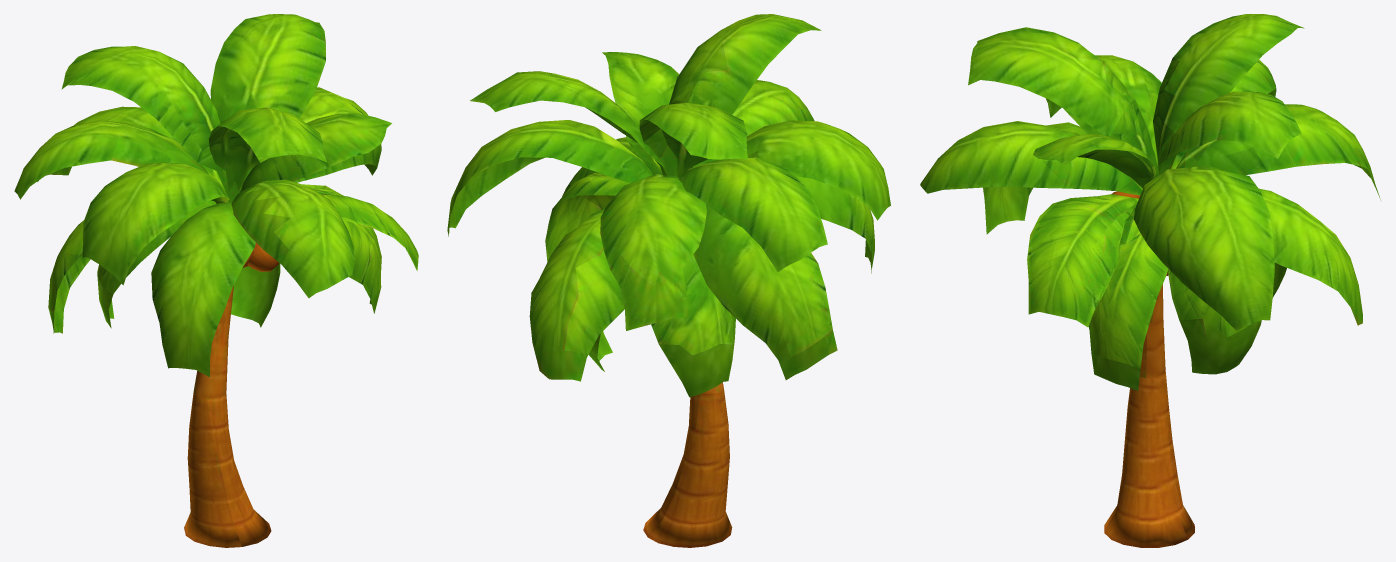
Rendered from coconut-palm.glb.
The picture shows the model from 3 angles, left to right: view 1: azimuth 30°, elevation 25°; view 2: azimuth 150°, elevation 25°; view 3: azimuth 270°, elevation 25°; orthographic projection. The views are drawn at different scales.
Size of the model in its own units: 0.8242 by 1 by 0.8691.
Materials: 1 (1 with a texture image).
